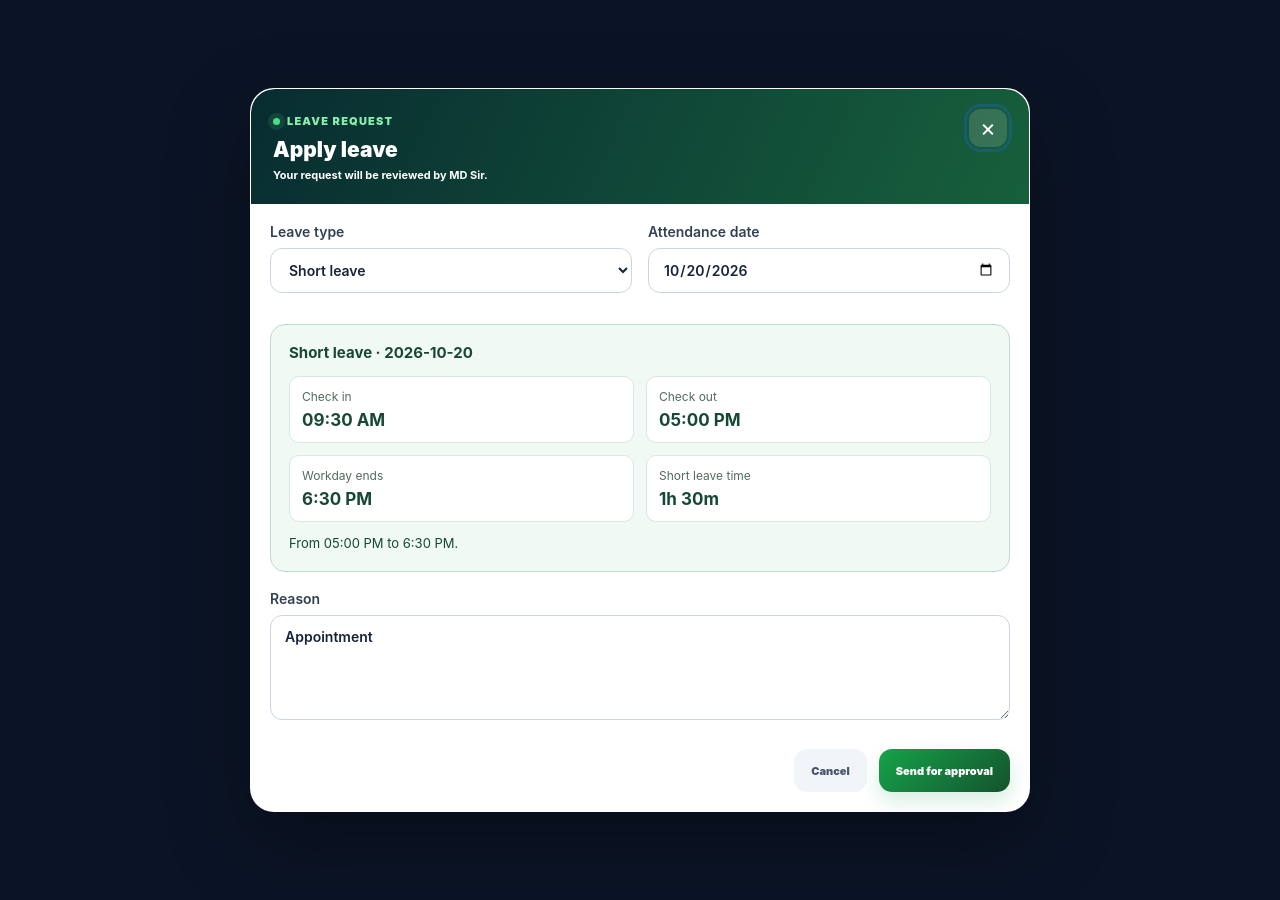
Test: switching dates clears old checkout details and blocks incomplete attendance
The image size is (1280, 900).
expect the text "1h 30m" is shown: met, box 659,489 -> 719,509
In the date field labelled "Attendance date": (829, 270) 648,248 -> 1010,293, type "2026-10-21"
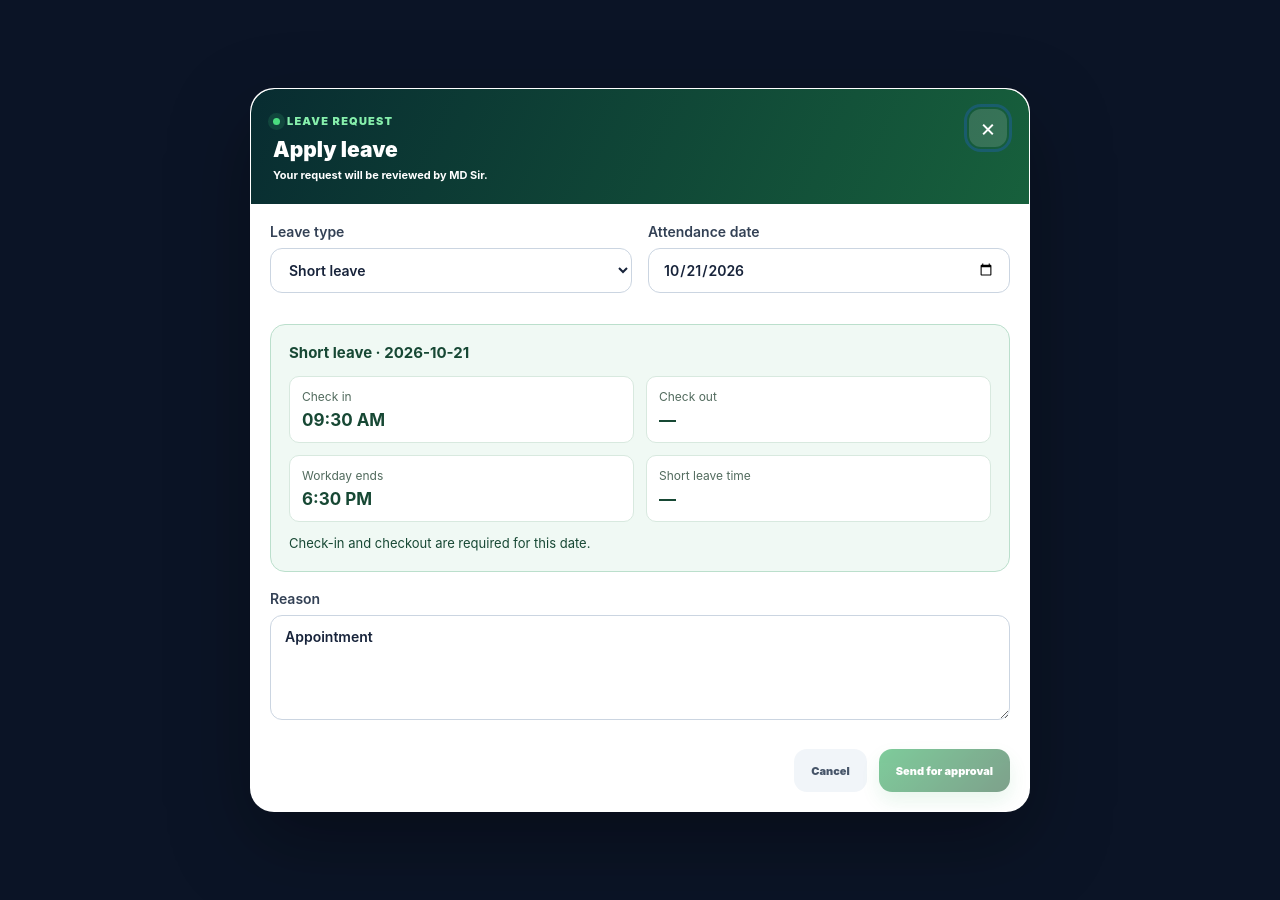
expect the text "Check-in and checkout are required for this date." is shown: met, box 289,535 -> 590,551
expect the text "05:00 PM" is gone: met
expect the button "Send for approval" is disabled: met, box 879,749 -> 1010,792
